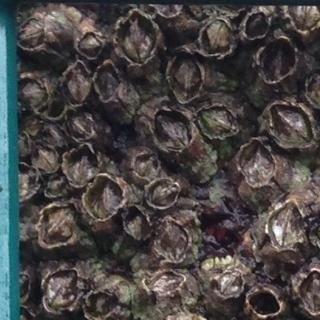Barnacle: (232, 142, 279, 193), (268, 103, 314, 150), (119, 13, 155, 65), (269, 202, 304, 249), (40, 204, 81, 244), (84, 175, 122, 218), (153, 110, 193, 150), (156, 215, 190, 262), (169, 52, 200, 101), (64, 146, 98, 189), (9, 75, 48, 112), (44, 269, 77, 312), (201, 19, 235, 55), (197, 106, 235, 137), (64, 63, 93, 103), (123, 205, 154, 240), (147, 180, 180, 208), (286, 2, 320, 29), (64, 108, 94, 138), (96, 64, 120, 101), (16, 18, 46, 47), (217, 270, 247, 297), (301, 270, 320, 312), (147, 271, 183, 293), (85, 291, 117, 315), (245, 12, 270, 41), (77, 31, 102, 58), (34, 147, 59, 173), (135, 152, 159, 176)
